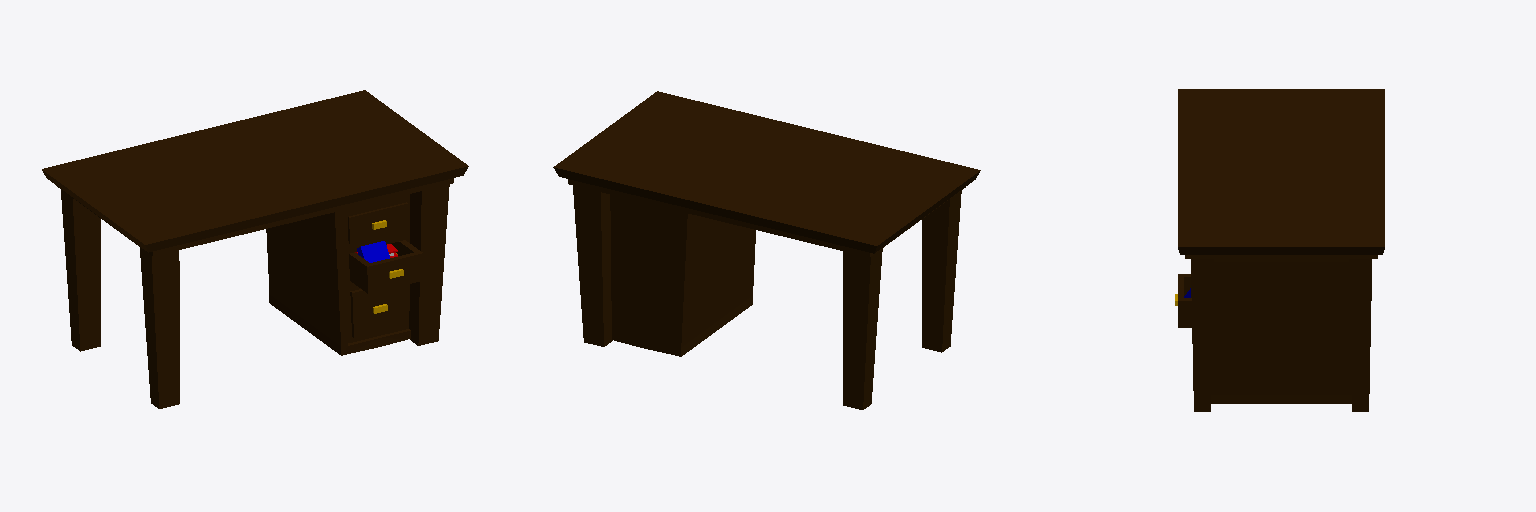
The model's file is desk.obj.
The picture shows the model from 3 angles: view 1: azimuth 30°, elevation 25°; view 2: azimuth 150°, elevation 25°; view 3: azimuth 270°, elevation 25°; orthographic projection.
Parts seen in each view (by area): view 1: Cube.002, Cube.001; view 2: Cube.002; view 3: Cube.002.
Part boxes in pixels (bbox=[...]): Cube.002: bbox=[42, 90, 468, 408]; Cube.001: bbox=[355, 241, 397, 262]; Cube.002: bbox=[553, 91, 980, 409]; Cube.002: bbox=[1175, 89, 1384, 411].
Bounding box in the file's own units: 6.54 × 3.39 × 3.69.